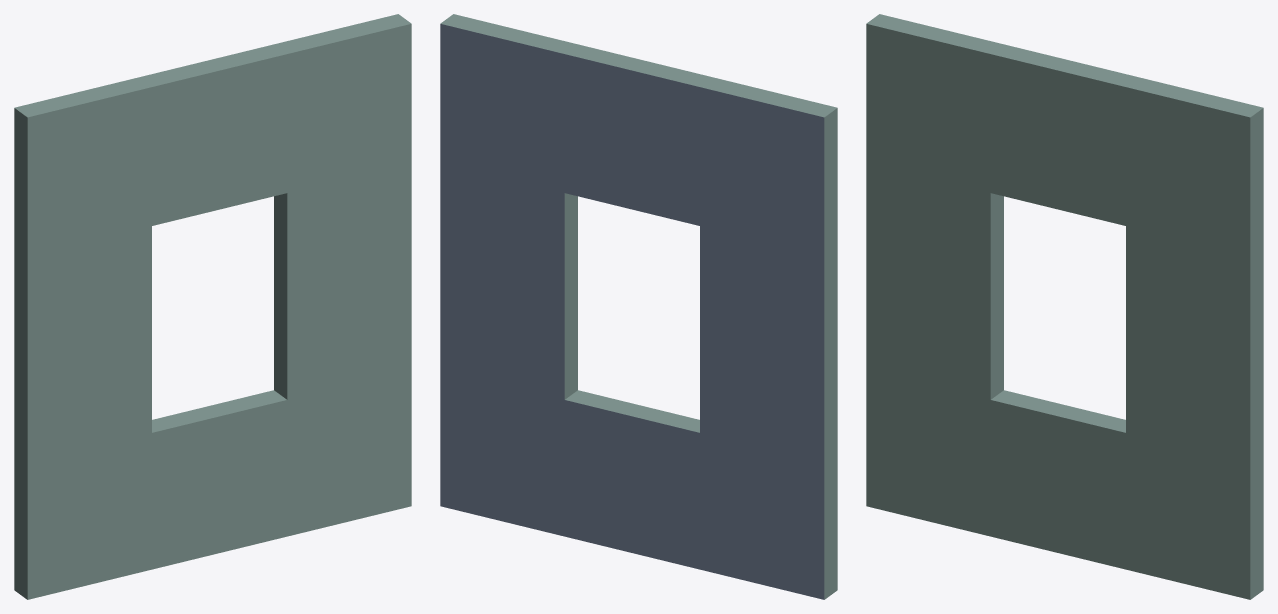
The model's file is Wall3_C5_03.fbx.
The picture shows the model from 3 angles, left to right: view 1: azimuth 30°, elevation 25°; view 2: azimuth 150°, elevation 25°; view 3: azimuth 330°, elevation 25°; orthographic projection.
Visible parts, largest first — view 1: Wall3_C5_03; view 2: Wall3_C5_03; view 3: Wall3_C5_03.
Boxes of the visible parts, x1=… form: Wall3_C5_03: x1=14, y1=14, x2=411, y2=599; Wall3_C5_03: x1=440, y1=14, x2=837, y2=599; Wall3_C5_03: x1=866, y1=14, x2=1263, y2=599.
Bounding box in the file's own units: 250 × 300 × 15.
